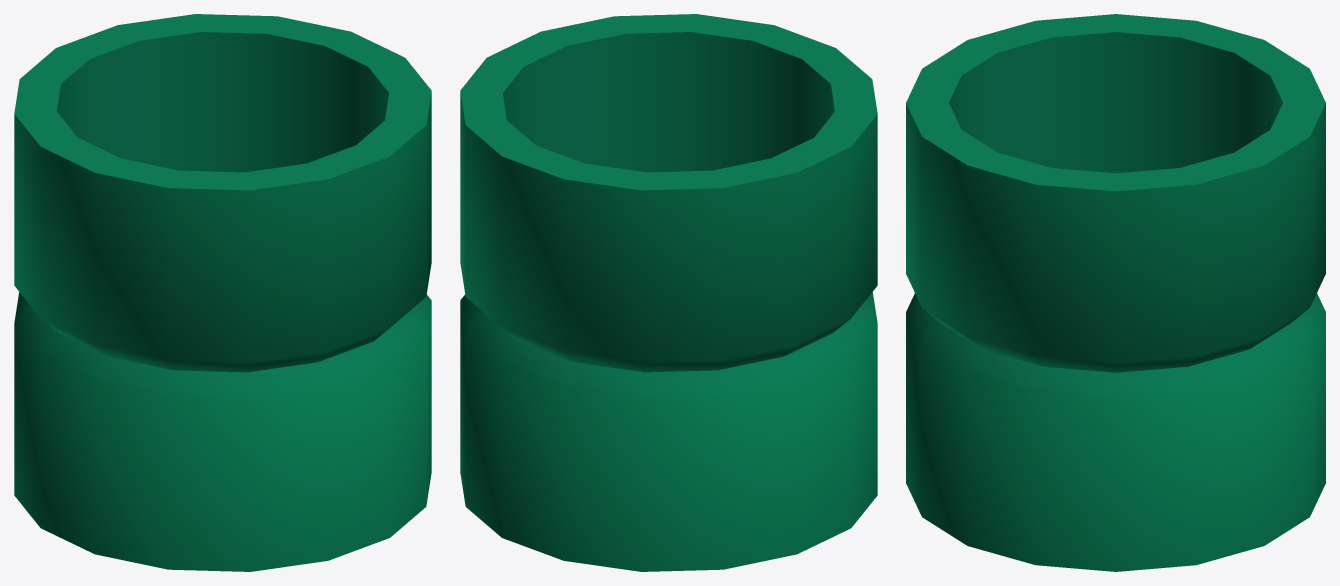
Rendered from kaykit_pipe_straight_B_green.glb.
The picture shows the model from 3 angles, left to right: view 1: azimuth 30°, elevation 25°; view 2: azimuth 150°, elevation 25°; view 3: azimuth 270°, elevation 25°; orthographic projection.
Visible parts, largest first — view 1: pipe_straight_B_green_visual; view 2: pipe_straight_B_green_visual; view 3: pipe_straight_B_green_visual.
Part boxes in pixels (bbox=[...]): pipe_straight_B_green_visual: bbox=[14, 14, 431, 571]; pipe_straight_B_green_visual: bbox=[460, 14, 877, 571]; pipe_straight_B_green_visual: bbox=[906, 14, 1325, 571].
Size of what is drawn, in the model's own units: 2 by 2 by 2.
1 material, 1 textured.
